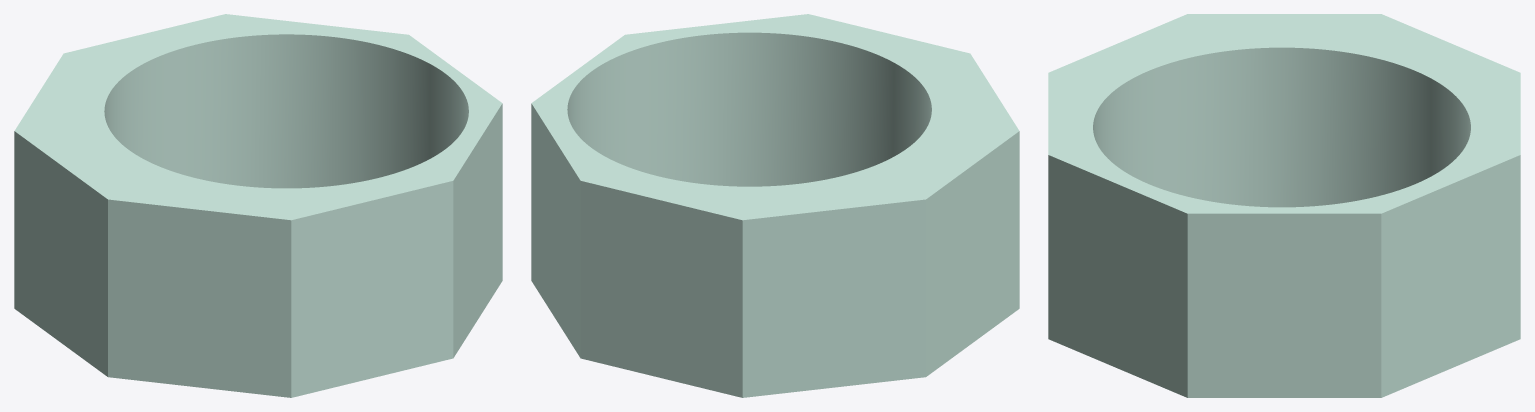
3 views of the same model, side by side, from view 1: azimuth 30°, elevation 25°; view 2: azimuth 150°, elevation 25°; view 3: azimuth 270°, elevation 25° (orthographic). The views are drawn at different scales.
Visible parts, largest first — view 1: Renderer Node; view 2: Renderer Node; view 3: Renderer Node.
Boxes of the visible parts, x1=… form: Renderer Node: x1=14, y1=14, x2=502, y2=397; Renderer Node: x1=531, y1=14, x2=1019, y2=397; Renderer Node: x1=1048, y1=14, x2=1520, y2=397.
Size of the model in its own units: 0.6172 by 0.2656 by 0.6172.
